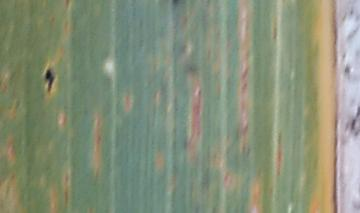tarspot: (41, 65, 56, 96), (343, 61, 352, 79), (169, 1, 182, 12), (350, 118, 356, 133), (355, 104, 360, 118)
